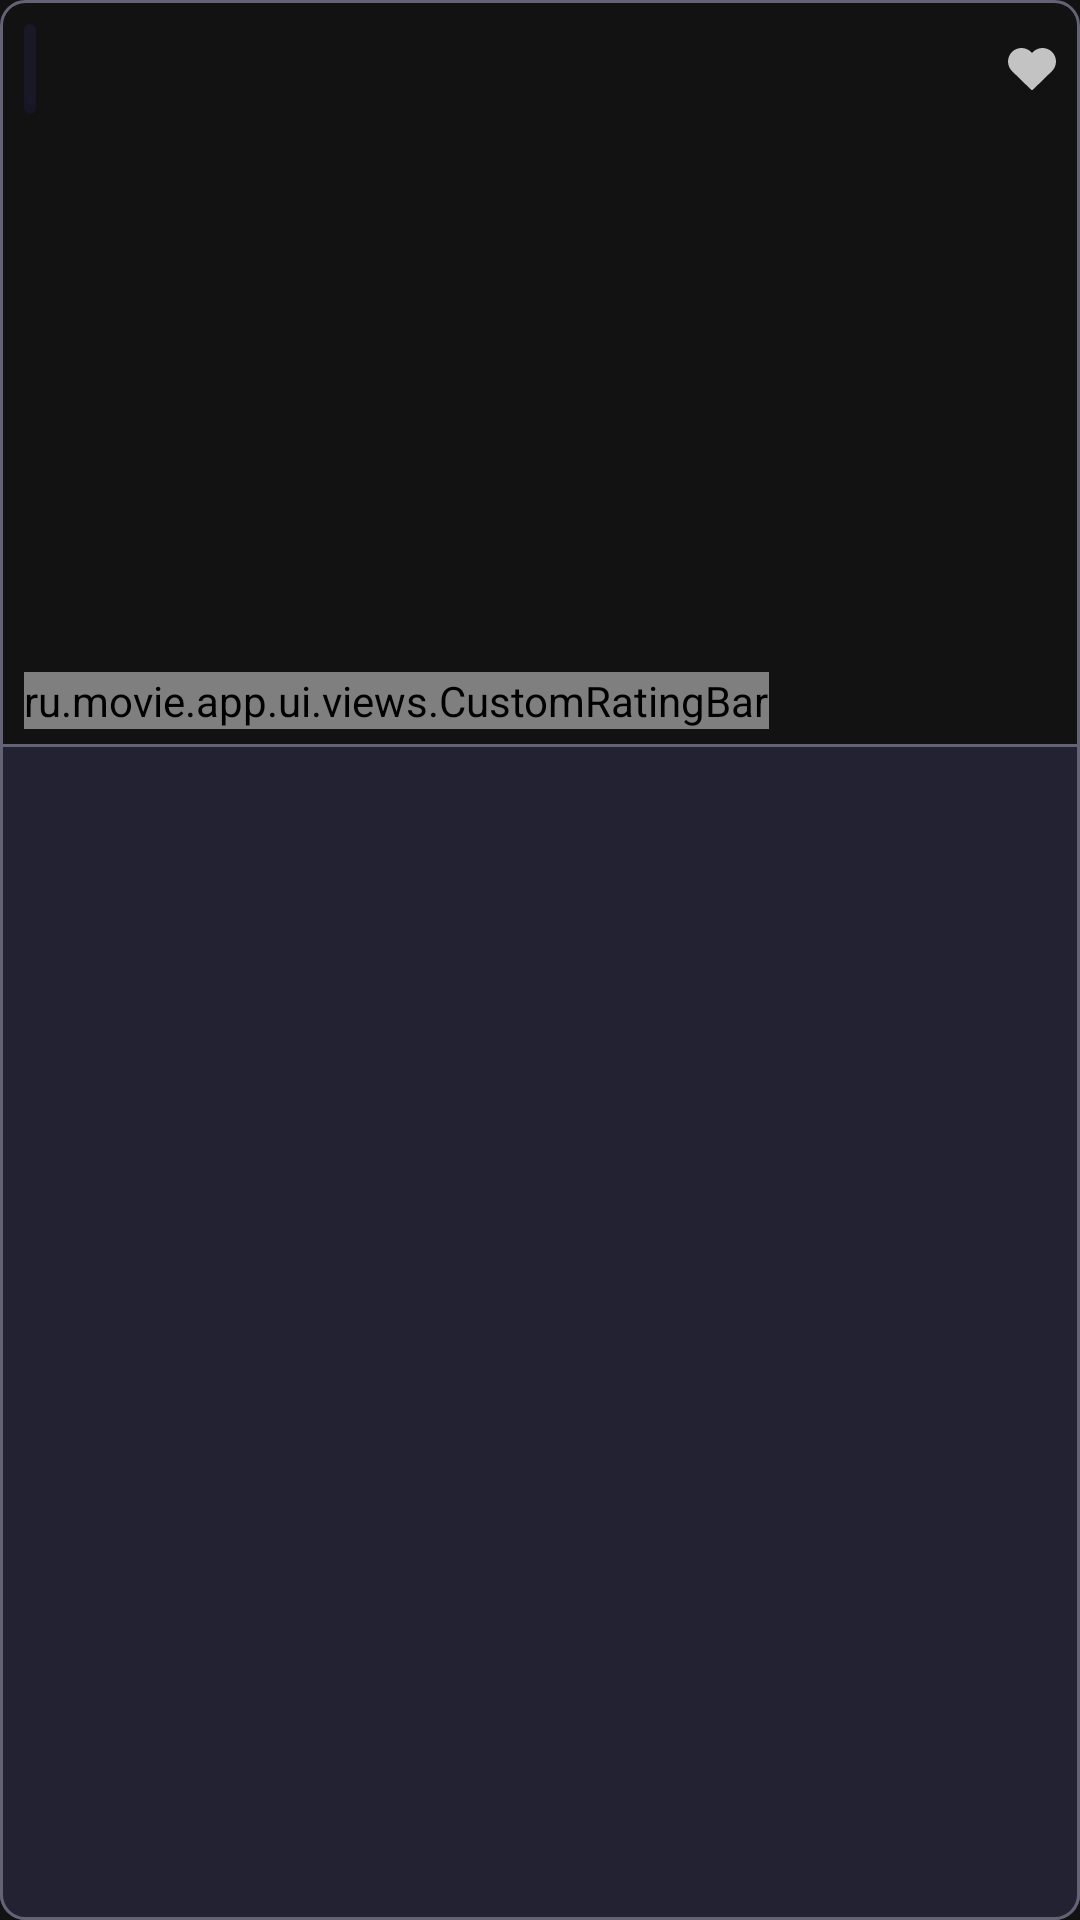

Named icons in this screenshot (1080×1920) and their bounding boxes, [x1,y1,x2,y2]:
like off: [1008,48,1056,90]
